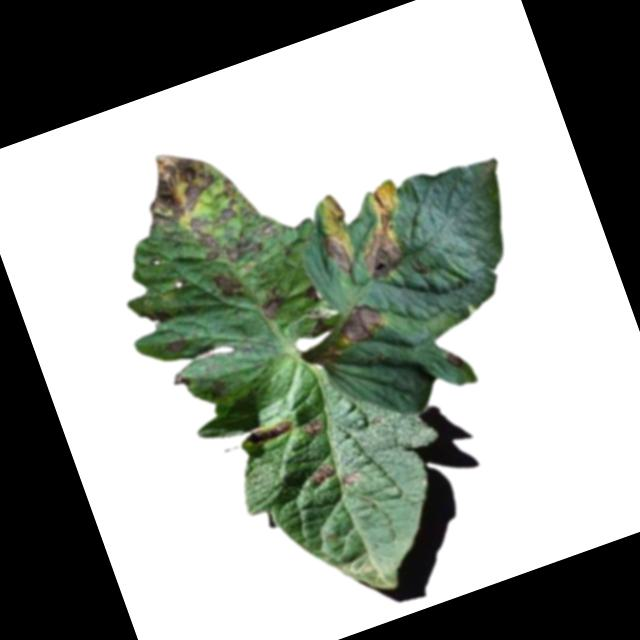Early_blight: (340, 183, 423, 286), (129, 140, 223, 230), (329, 301, 388, 350), (318, 230, 360, 281), (186, 212, 223, 265), (218, 226, 263, 266), (207, 178, 245, 224), (207, 267, 248, 309), (246, 417, 296, 451), (252, 287, 290, 322), (316, 191, 348, 231), (154, 332, 192, 360), (306, 462, 339, 490), (253, 216, 279, 246), (303, 415, 330, 442), (338, 470, 363, 490)
